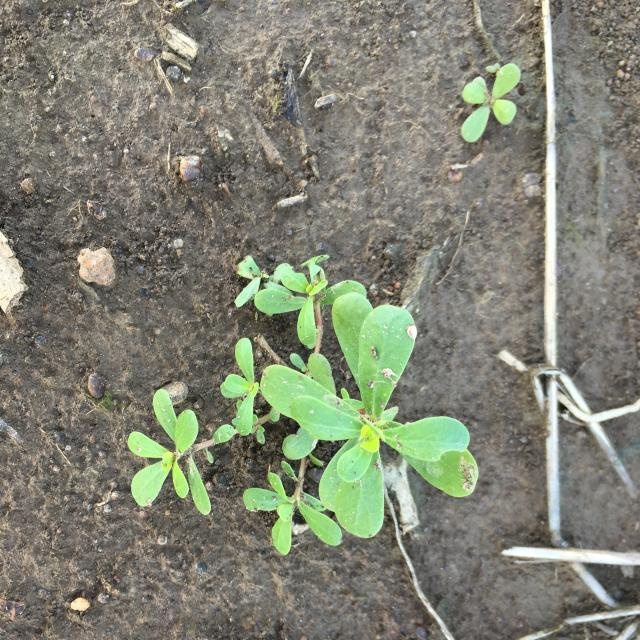Purslane: (127, 255, 479, 556), (462, 62, 520, 142)
